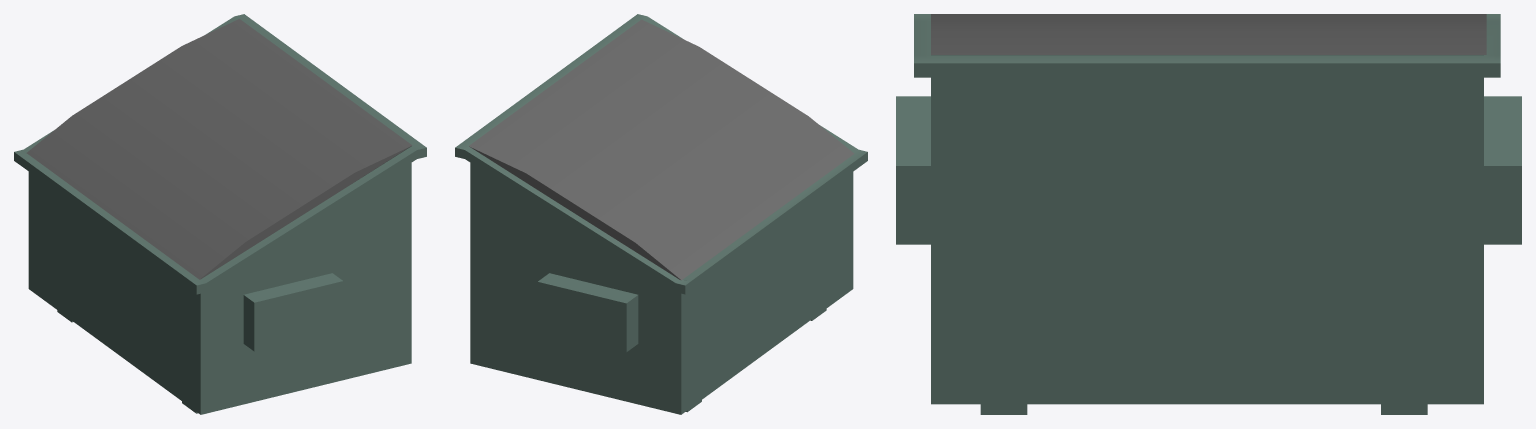
File: bakko.fbx
The picture shows the model from 3 angles, left to right: view 1: azimuth 30°, elevation 25°; view 2: azimuth 150°, elevation 25°; view 3: azimuth 270°, elevation 25°; orthographic projection. The views are drawn at different scales.
Visible parts, largest first — view 1: Plane, Disc, Cube; view 2: Plane, Disc, Cube_1; view 3: Plane, Disc, Cube_1, Cube.
Part boxes in pixels (box(x1,y1,x2,y2)): Plane: box(14, 14, 426, 414); Disc: box(26, 19, 412, 279); Cube: box(243, 273, 343, 351); Plane: box(455, 14, 867, 414); Disc: box(469, 19, 854, 280); Cube_1: box(537, 273, 638, 352); Plane: box(914, 14, 1500, 404); Disc: box(931, 14, 1486, 54); Cube_1: box(1484, 96, 1521, 244); Cube: box(896, 96, 930, 244).
Bounding box in the file's own units: 984 × 943 × 1443.
